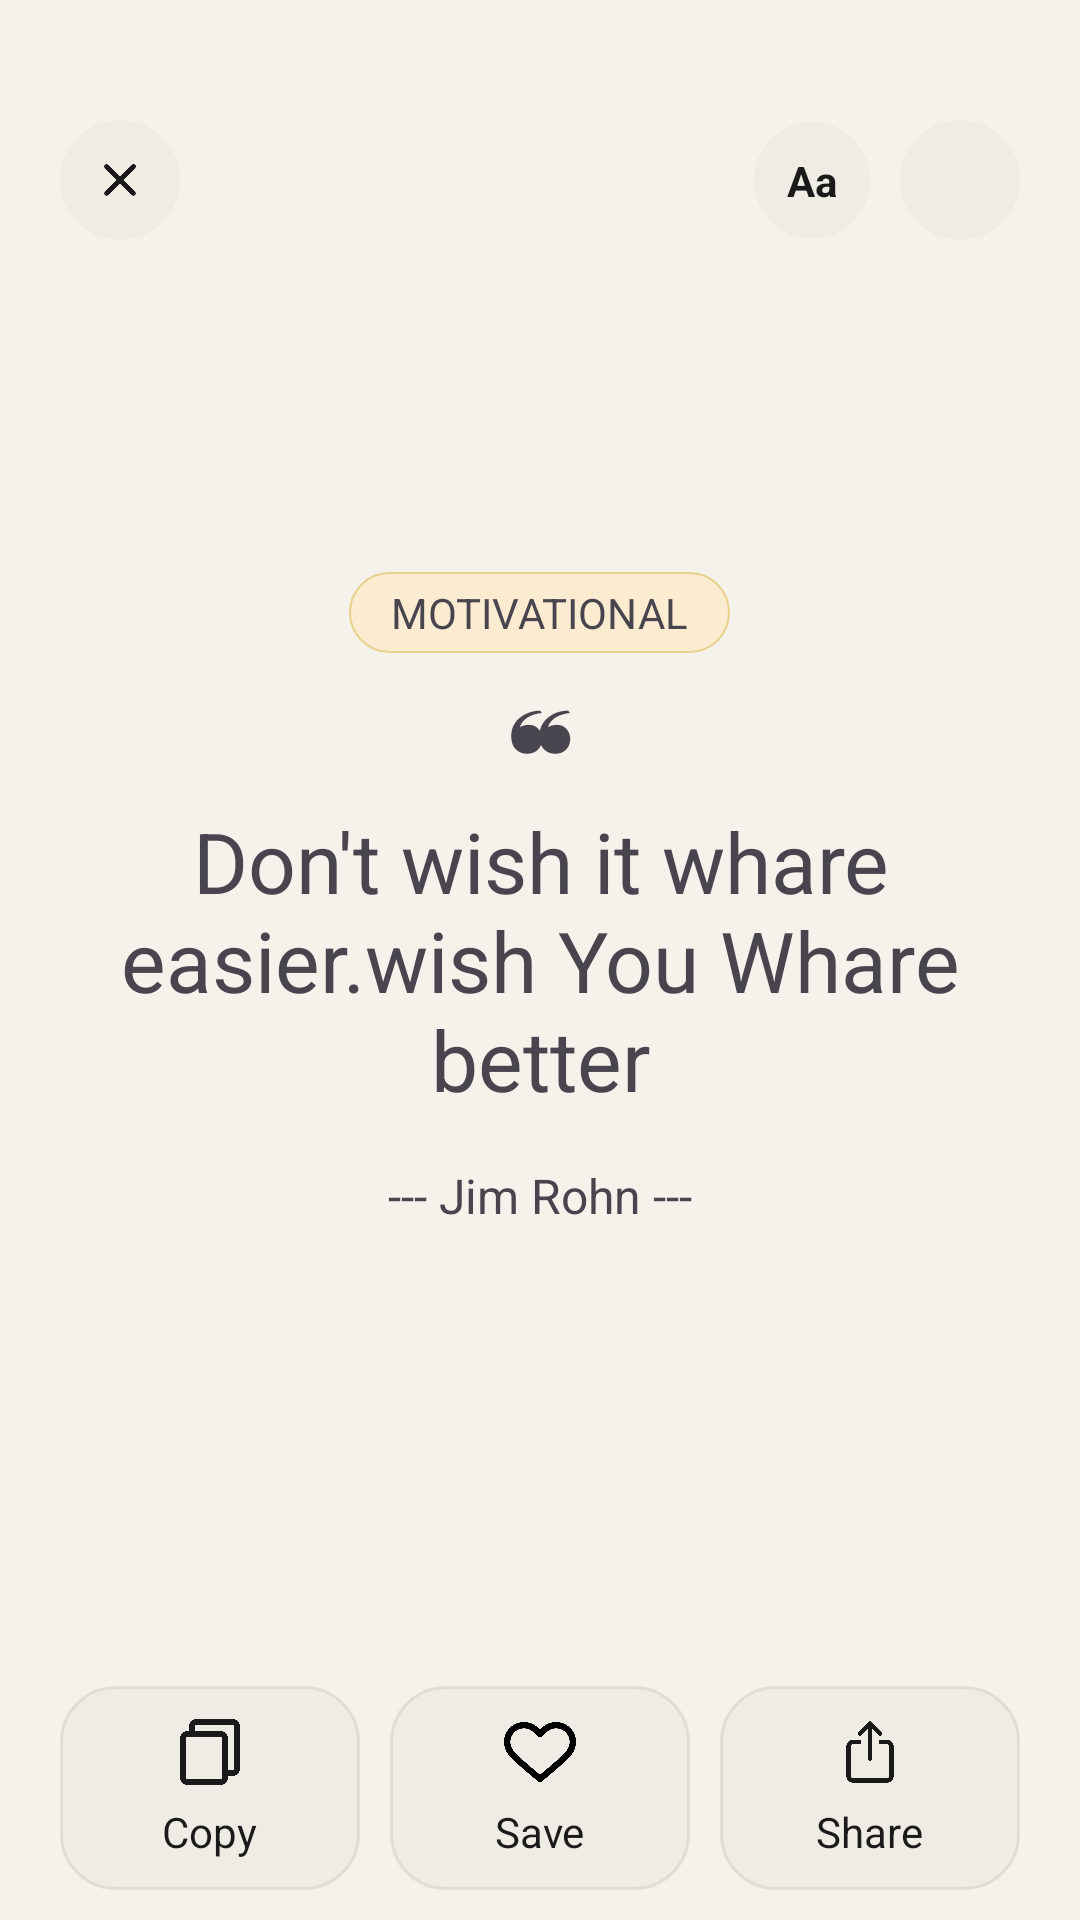

Icons on this 1080 x 1920 Android screen, each with the point to tap as point (x, y):
close: point (120, 180)
heart: point (540, 1752)
